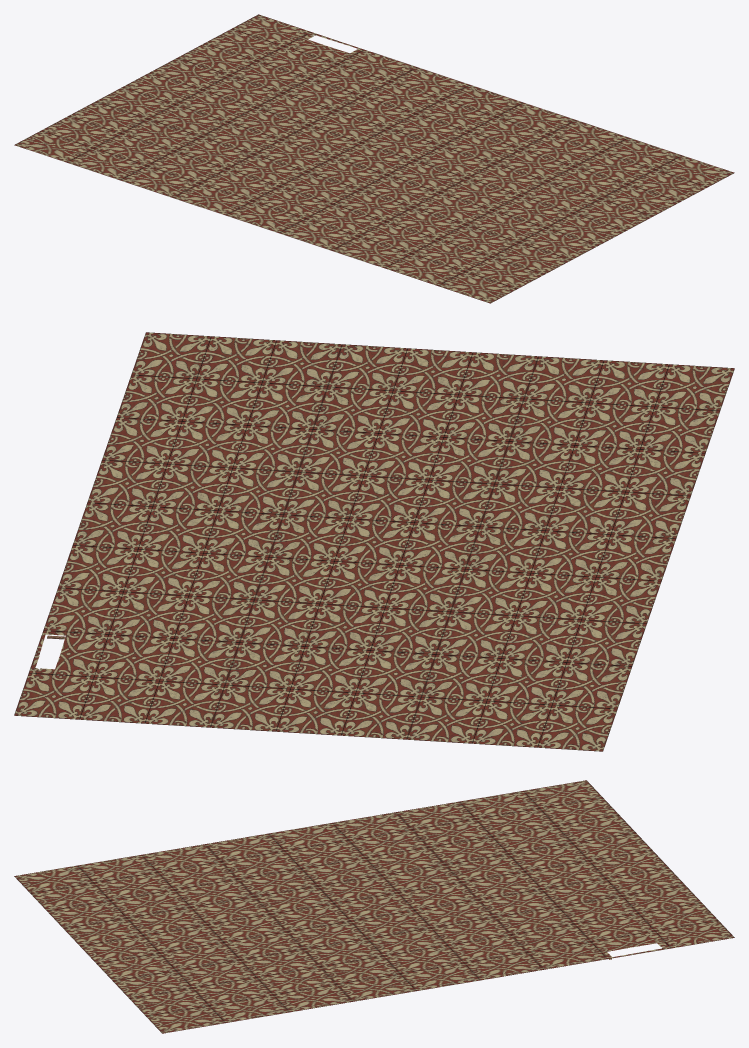
The model's file is Roof.fbx.
3 views of the same model, one above another, from view 1: azimuth 30°, elevation 25°; view 2: azimuth 150°, elevation 25°; view 3: azimuth 270°, elevation 25° (orthographic). The views are drawn at different scales.
Visible parts, largest first — view 1: Ground__1_; view 2: Ground__1_; view 3: Ground__1_.
Part boxes in pixels (x1,y1,x2,y2): Ground__1_: (14, 14, 734, 303); Ground__1_: (14, 332, 734, 751); Ground__1_: (14, 780, 734, 1033).
Bounding box in the file's own units: 6040 × 35.19 × 7253.
1 material, 1 textured.
